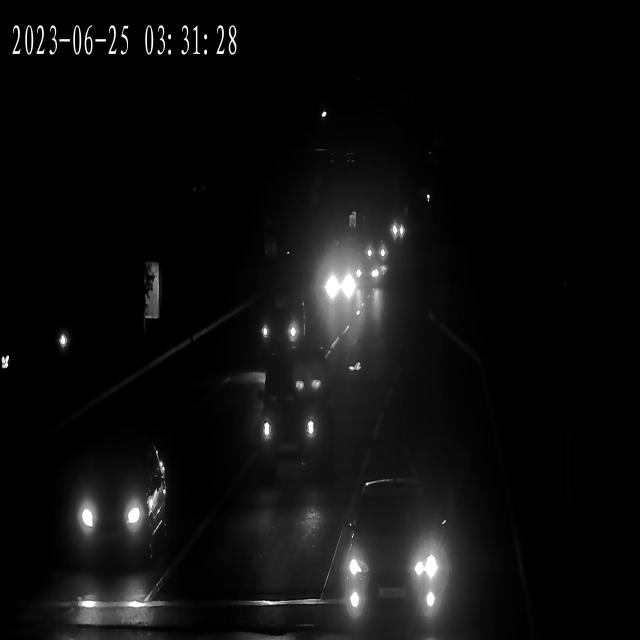Car: (332, 481, 452, 617), (54, 445, 160, 569), (265, 388, 322, 466), (253, 298, 308, 348), (321, 262, 363, 306), (348, 257, 384, 293), (362, 239, 390, 264), (385, 221, 406, 240)
